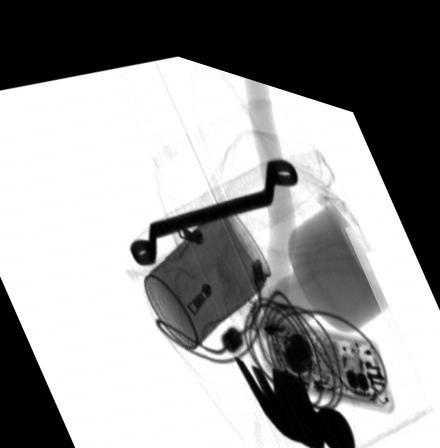Hammer: (230, 62, 354, 435)
Wrench: (128, 141, 298, 255)
